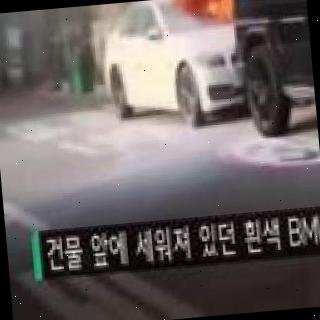fire: (188, 0, 239, 32)
